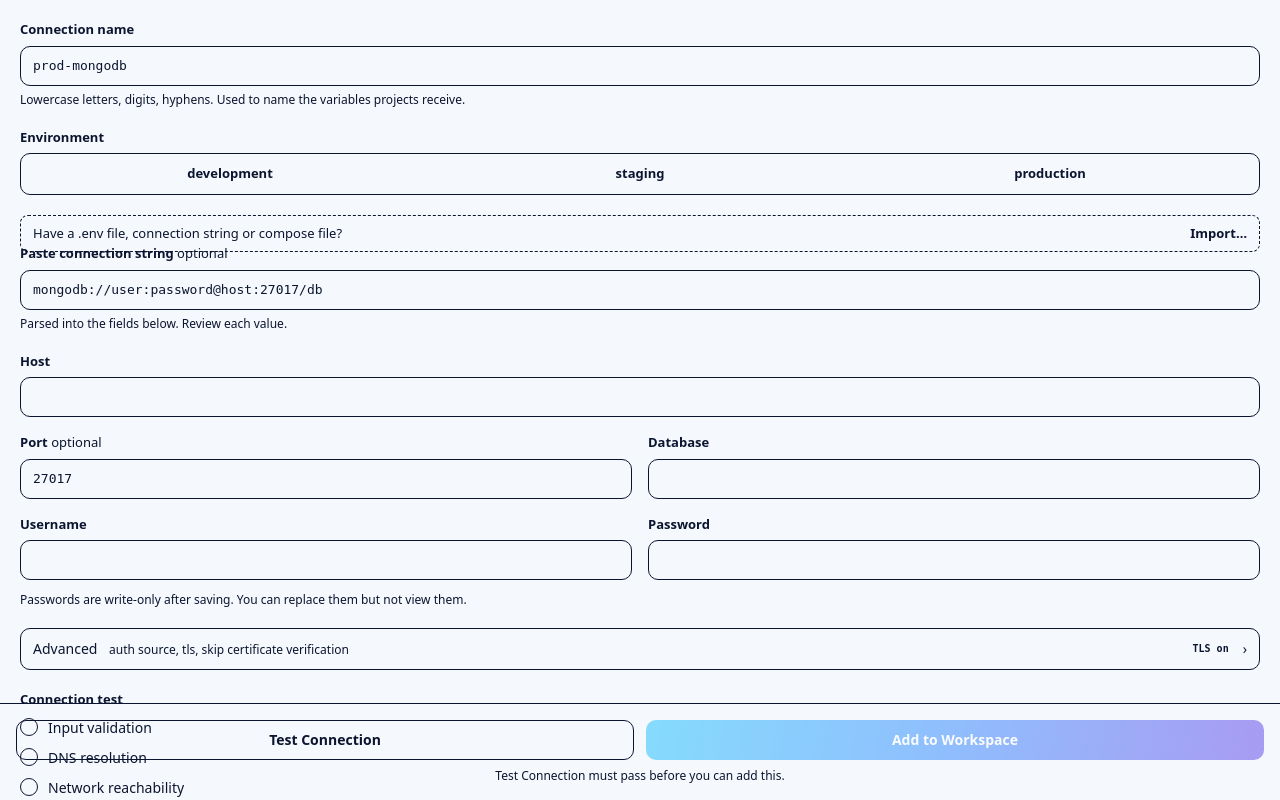
ConnectTab form › reports an unparsable connection string next to the field
Click the field labelled "Paste connection string optional" at (640, 290), box left=20, top=270, right=1260, bottom=310
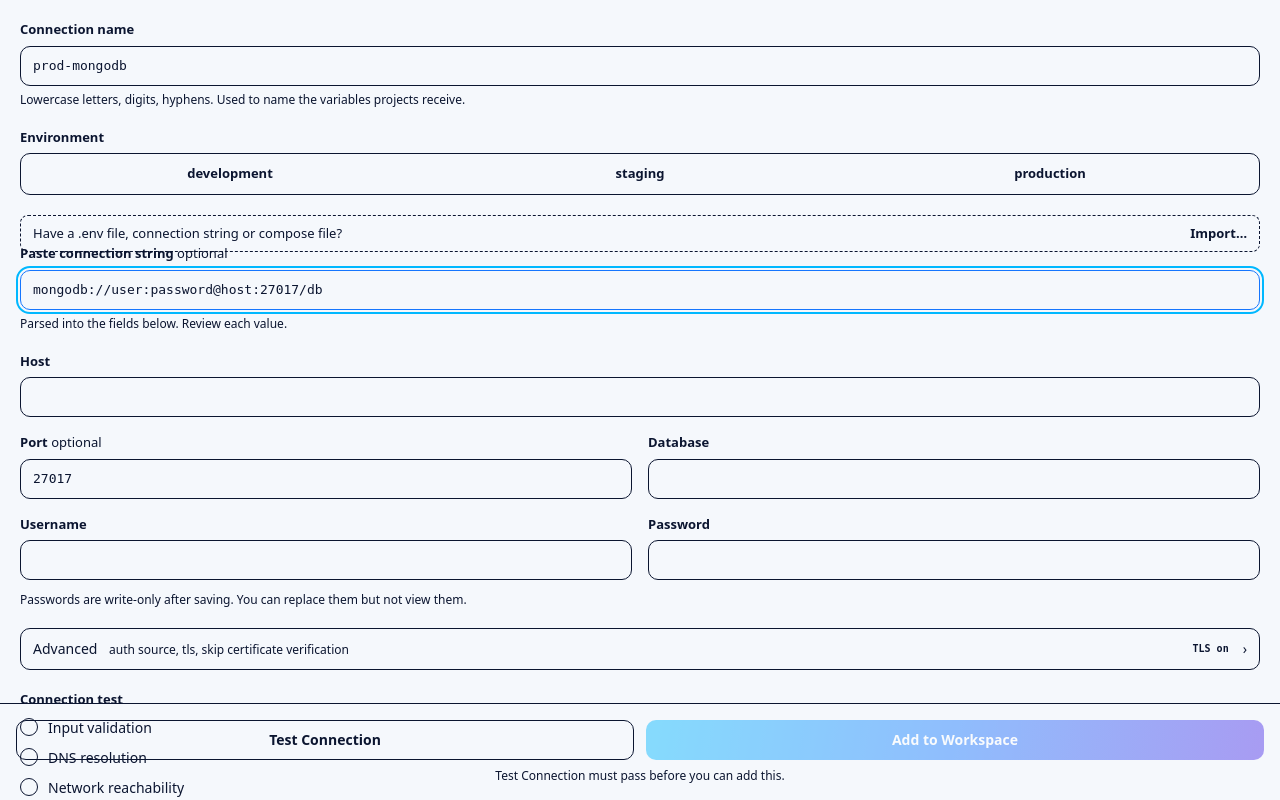
Type keys "mysql://x"
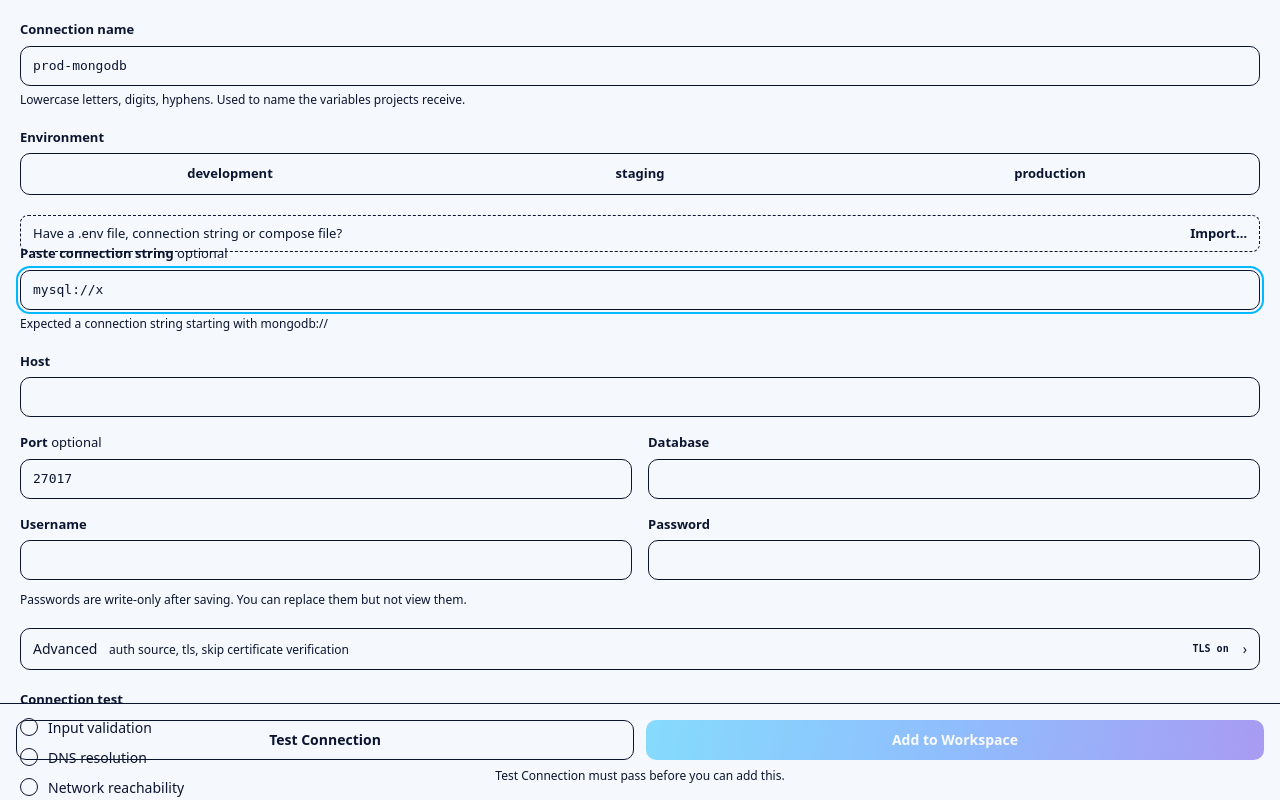
Check: the text "Expected a connection string starting with mongodb://" is shown, box left=20, top=314, right=328, bottom=332
